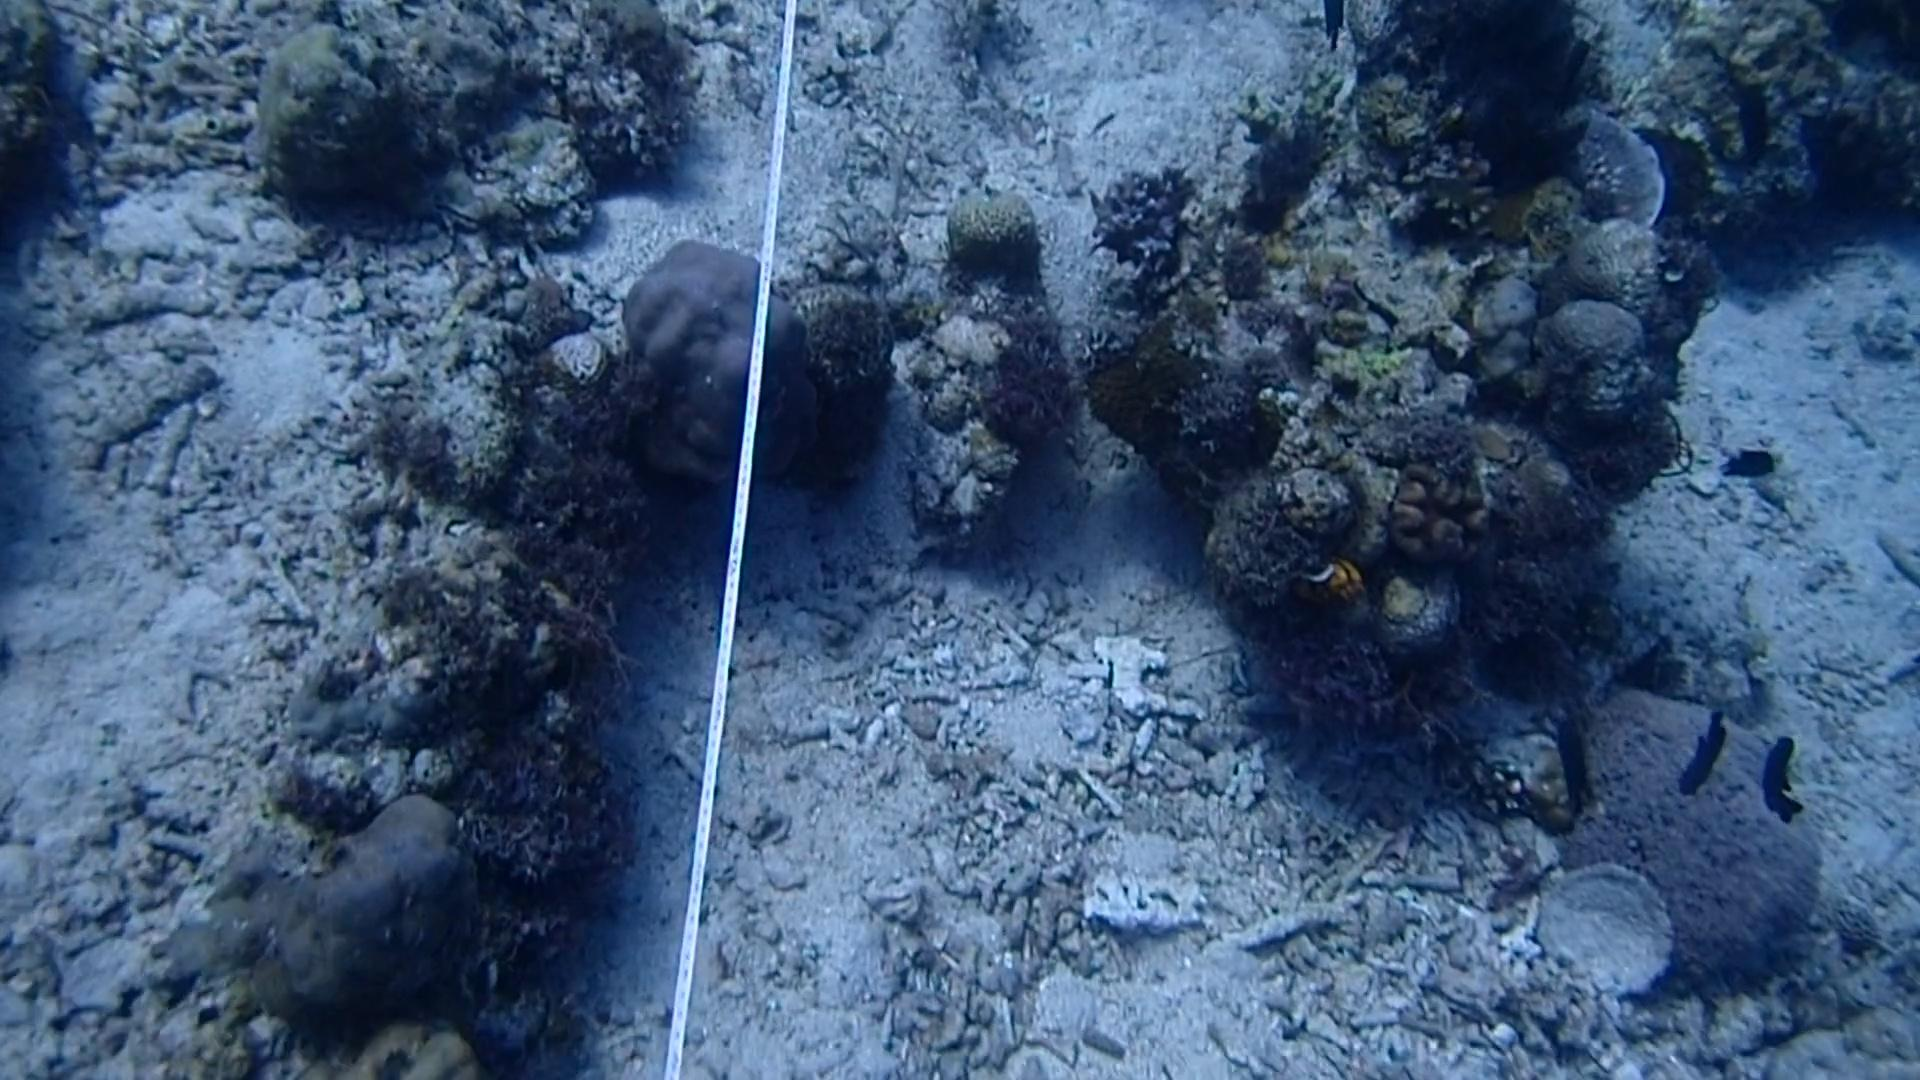Dark Fish: (1538, 703, 1613, 814), (1660, 698, 1733, 794), (1717, 73, 1785, 171), (1754, 725, 1811, 831), (1704, 433, 1788, 493)
Light Fish w Back Stripes: (46, 132, 115, 264)
